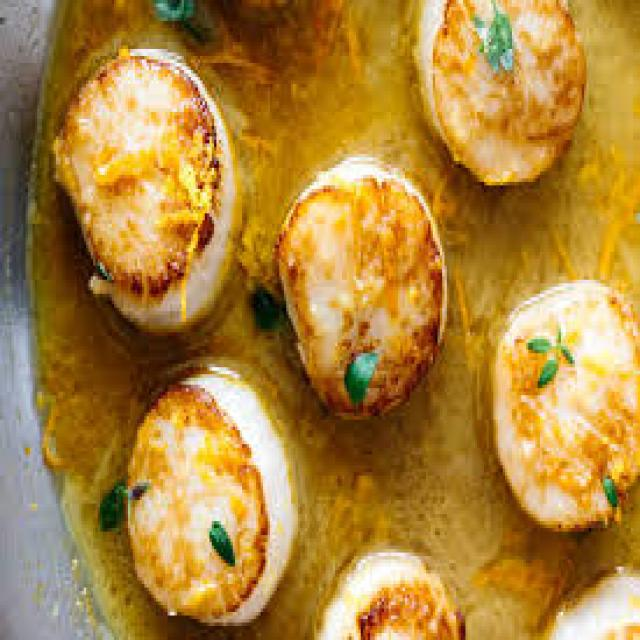Spinach bagged/loose: (57, 48, 237, 340), (122, 372, 294, 623), (278, 165, 445, 422), (491, 276, 640, 531), (414, 0, 586, 189)
